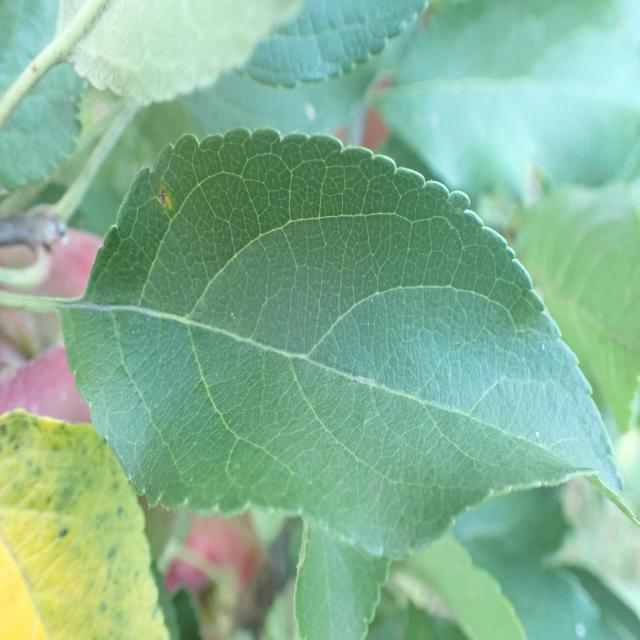Rust: (152, 172, 183, 224)
